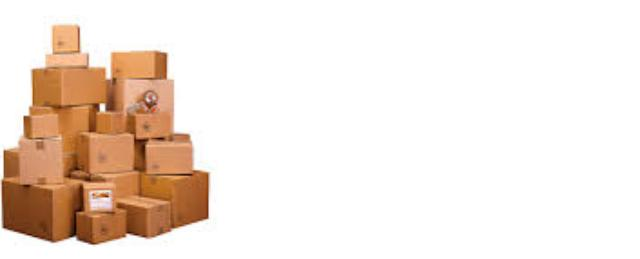cardboard paper: (141, 170, 207, 225), (31, 67, 105, 105), (76, 132, 132, 172), (112, 78, 172, 114), (120, 196, 170, 236), (18, 138, 62, 183), (145, 140, 190, 174), (111, 51, 165, 78), (51, 24, 78, 53), (45, 53, 87, 67)
